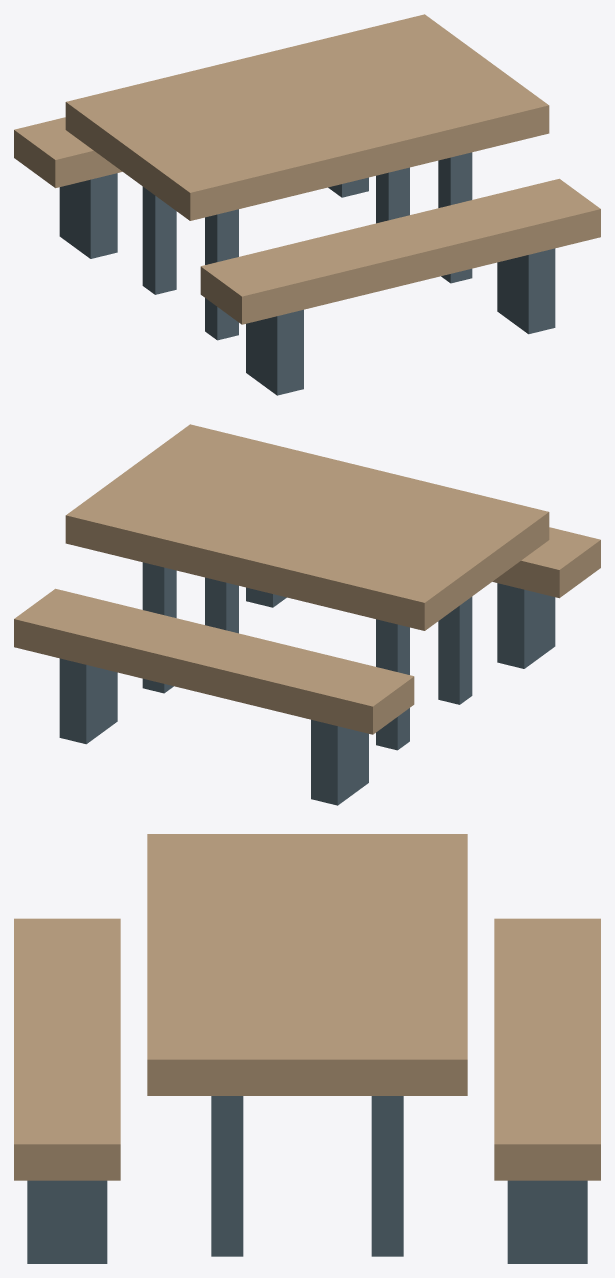
File: voxel-city-districts-picnic-table-47b0da9a__24854.glb
The picture shows the model from 3 angles, top to bottom: view 1: azimuth 30°, elevation 25°; view 2: azimuth 150°, elevation 25°; view 3: azimuth 270°, elevation 25°; orthographic projection. The views are drawn at different scales.
Parts seen in each view (by area): view 1: picnic-table-wood, picnic-table-dark; view 2: picnic-table-wood, picnic-table-dark; view 3: picnic-table-wood, picnic-table-dark.
Boxes of the visible parts, x1,y1,x2,y2 form: picnic-table-wood: (14,14,600,324); picnic-table-dark: (59,152,555,395); picnic-table-wood: (14,424,600,734); picnic-table-dark: (59,562,555,805); picnic-table-wood: (14,834,600,1180); picnic-table-dark: (27,1096,587,1263).
Size of the model in its own units: 2 by 0.95 by 2.2.
